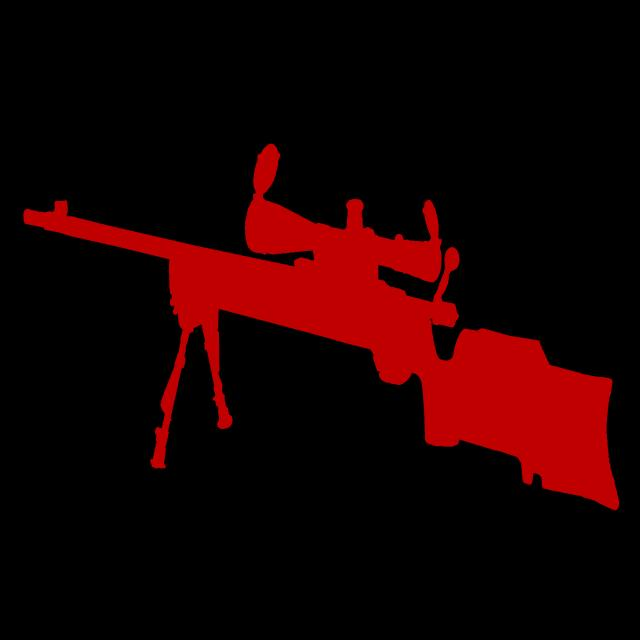firearm: (19, 137, 621, 516)
